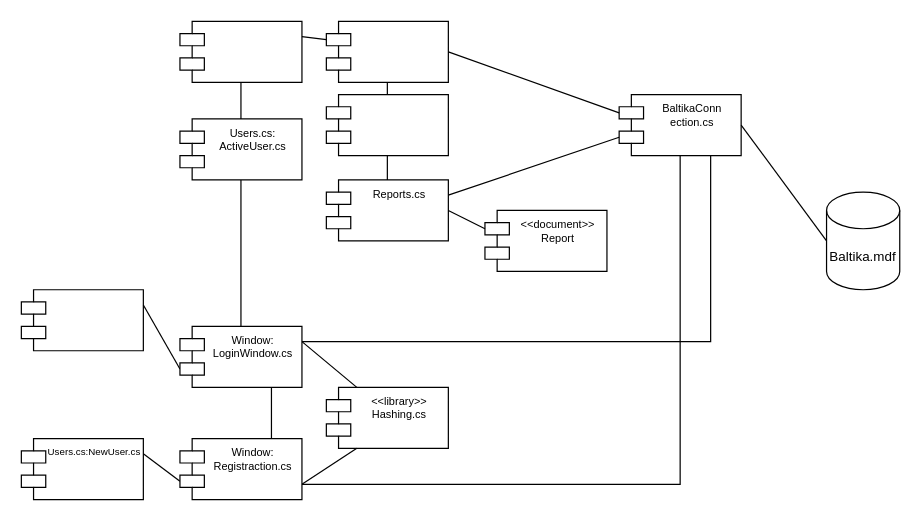
The diagram is 921 pixels wide and 521 high, and some of its shapes have lost their labels. Each missing label, with the centre of its shape:
Users.cs:User.cs: point (81, 320)
Window: Editing.cs: point (386, 51)
Window: MainMenu.cs: point (240, 51)
Window: Reporting.cs: point (386, 124)
